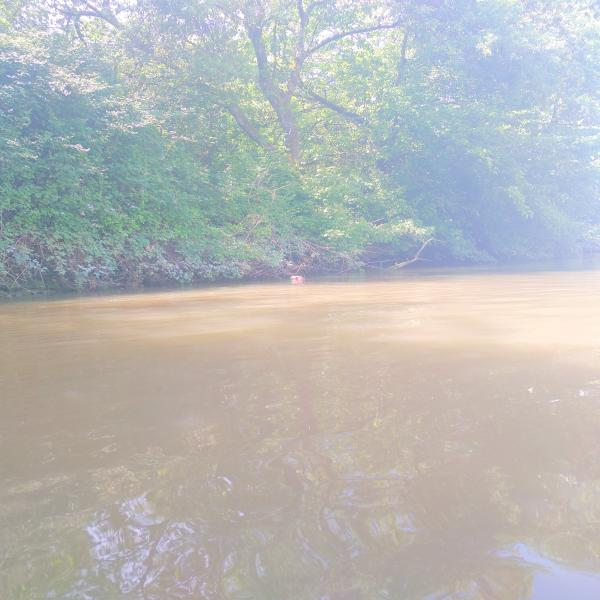bottles: (289, 273, 309, 281)
